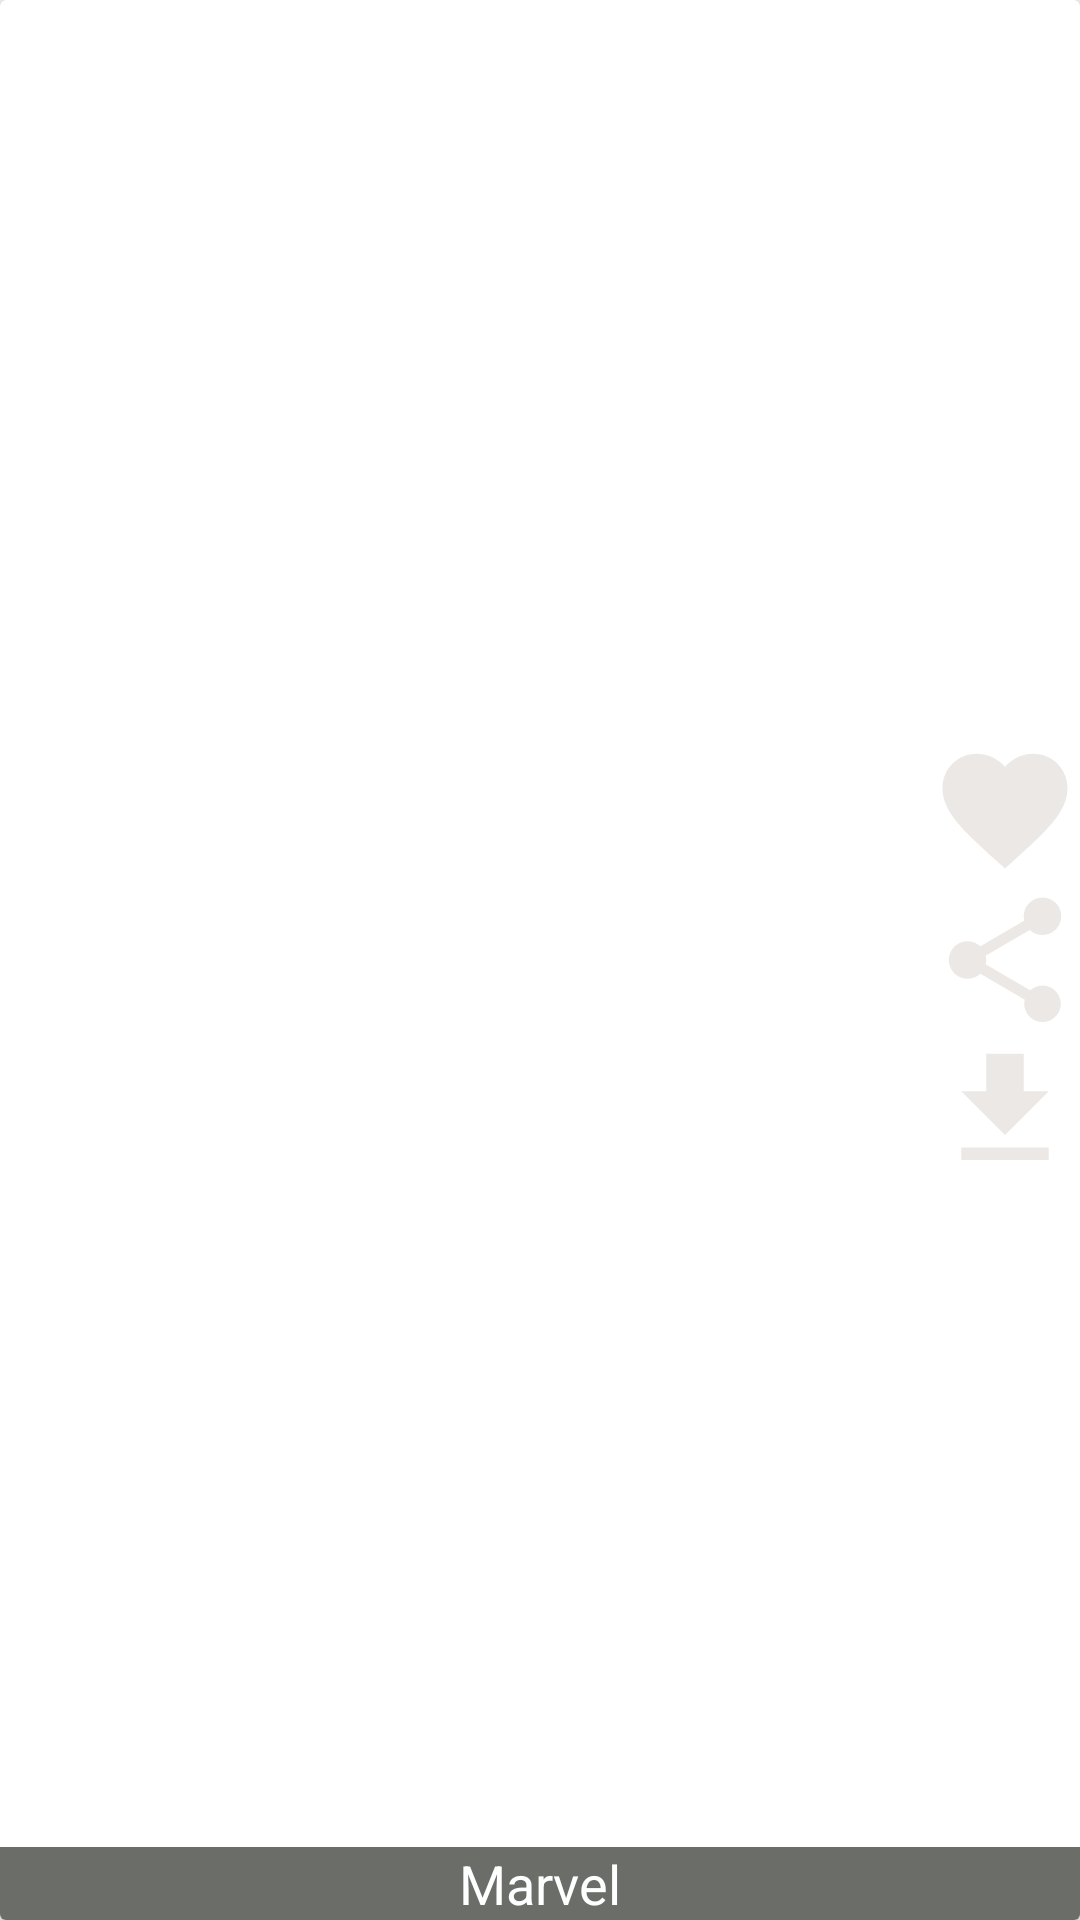

Icon bounding boxes for this 1080 x 1920 phone screenshot, format (x1, y1, x2, y2):
fav checkbox: (943, 754, 1067, 867)
file download: (962, 1054, 1048, 1160)
share: (949, 898, 1061, 1022)
